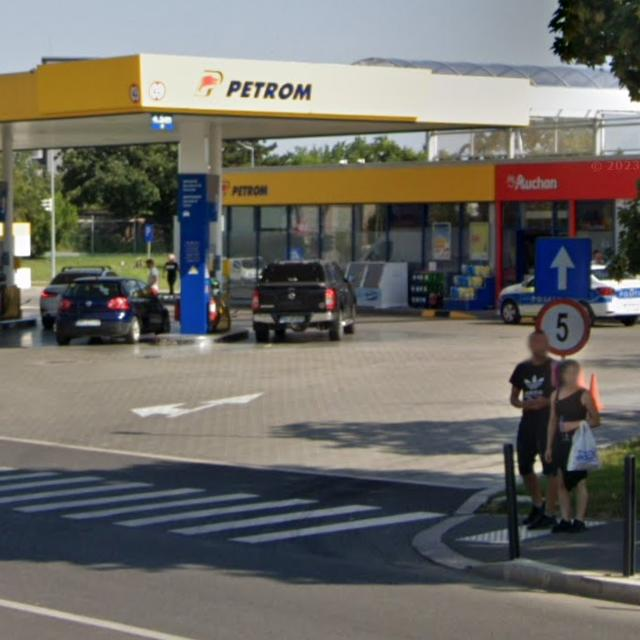forb_speed_over_5: (538, 300, 591, 356)
info_one_way_traffic: (536, 238, 592, 298)
